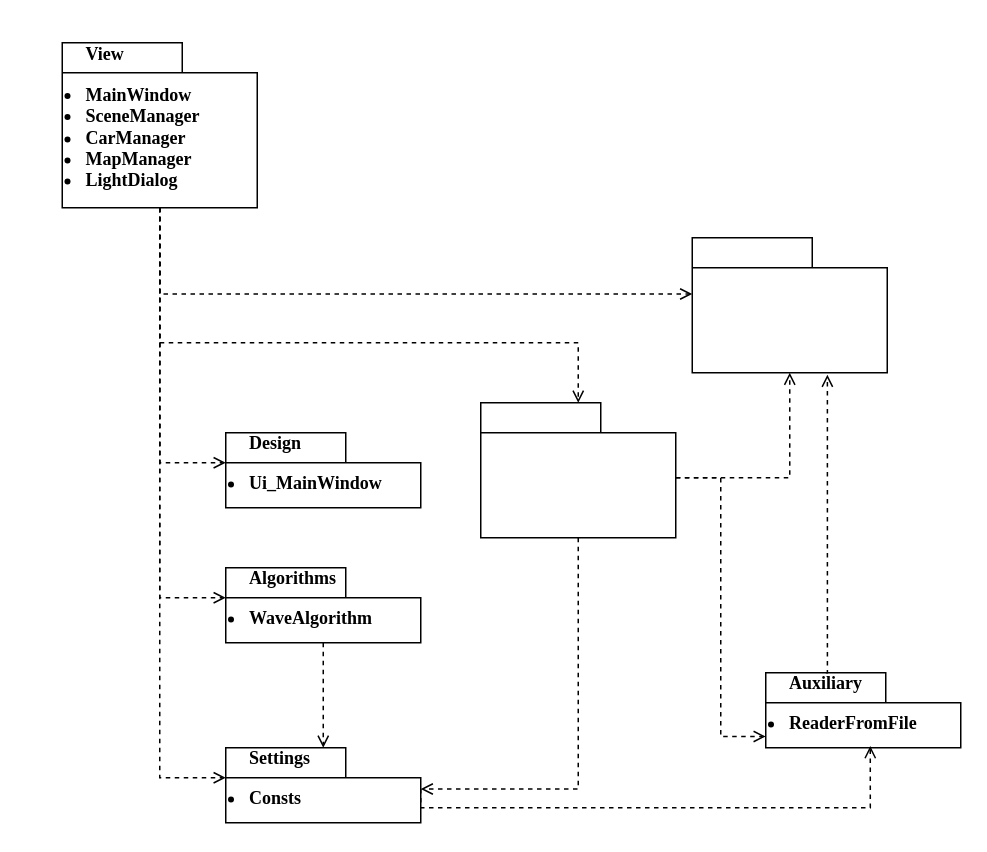
This 987x852 diagram has some shape labels left out. The shapes that lost their labels are listed below. From the top down, each one's centre as x and y in pixels, then its label:
At point (789, 304): "Classes SceneObject Face Dot".
At point (577, 469): "Draw DrawFaces ShadowCaster Camera".
